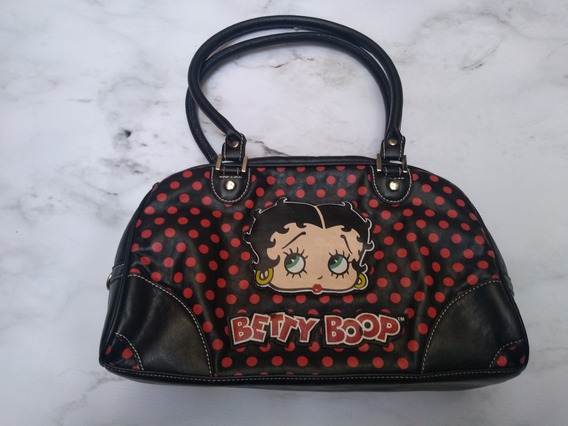cartera: (98, 18, 530, 392)
